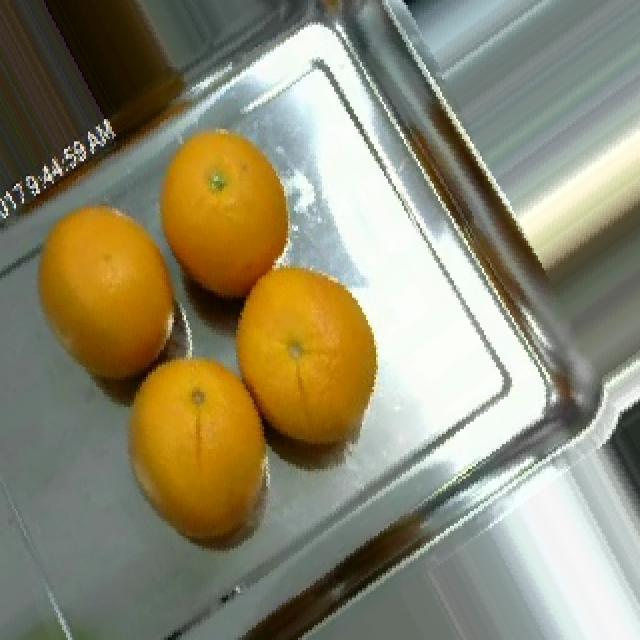Fruit: (10, 176, 198, 400), (136, 94, 322, 320), (106, 382, 308, 578), (594, 377, 640, 523)
